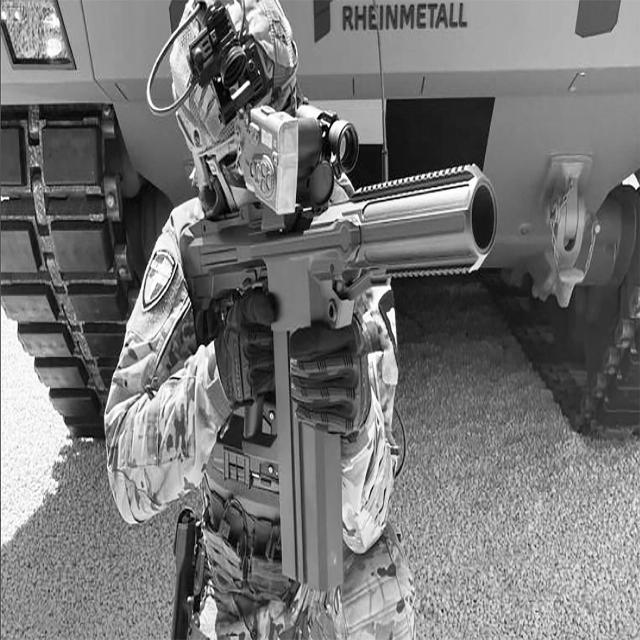Lancher: (210, 110, 508, 610)
